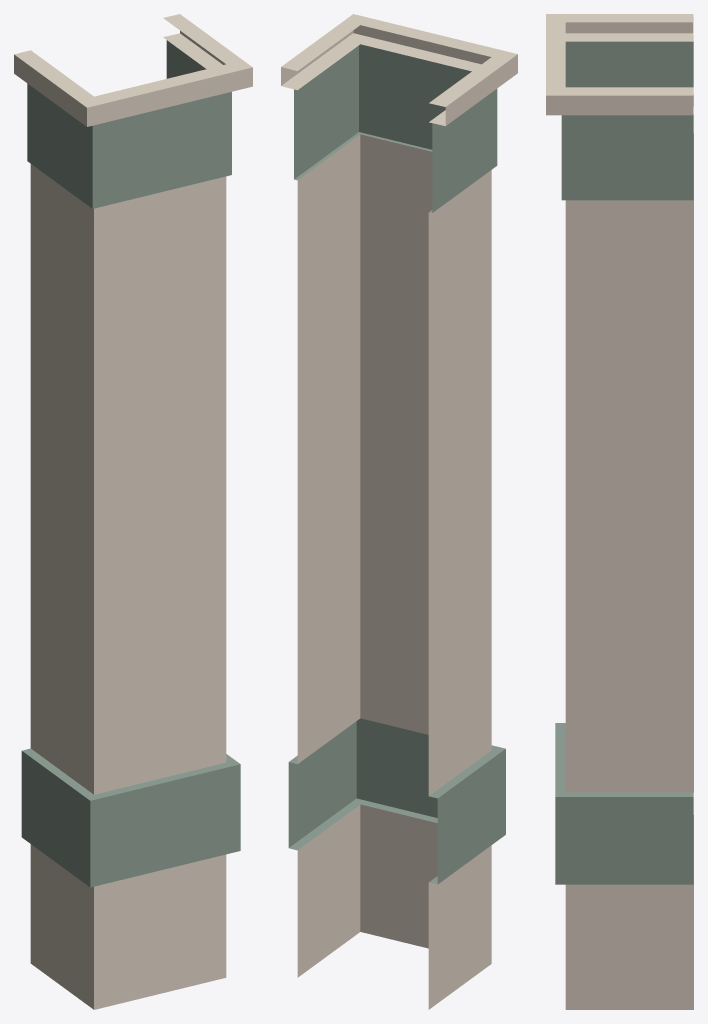
File: bld_addon_01.fbx
3 views of the same model, side by side, from view 1: azimuth 30°, elevation 25°; view 2: azimuth 150°, elevation 25°; view 3: azimuth 270°, elevation 25° (orthographic).
Visible parts, largest first — view 1: bld_addon_01; view 2: bld_addon_01; view 3: bld_addon_01.
Part boxes in pixels (x1,y1,x2,y2): bld_addon_01: (14,14,252,1009); bld_addon_01: (281,14,517,1009); bld_addon_01: (546,14,693,1009).
Bounding box in the file's own units: 162 × 852 × 124.
